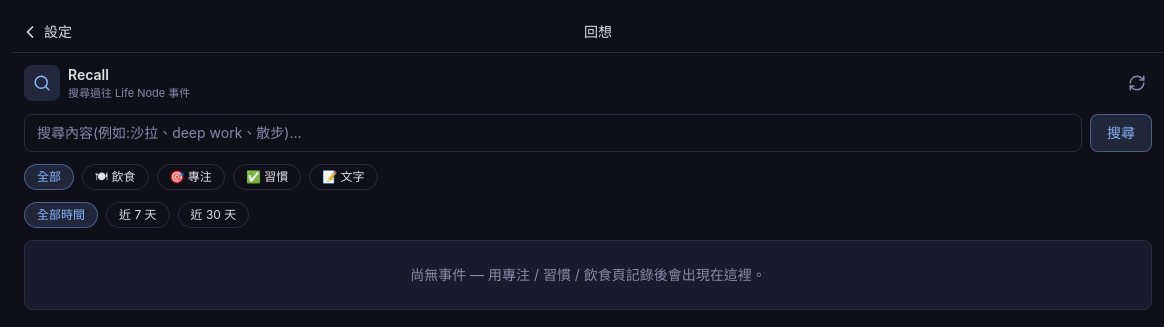
Scenario: <MobileRecall /> › surfaces a search error without crashing
The image size is (1164, 327).
Step 1. Click the button "搜尋" → (1121, 132), box [1090,114,1152,152]
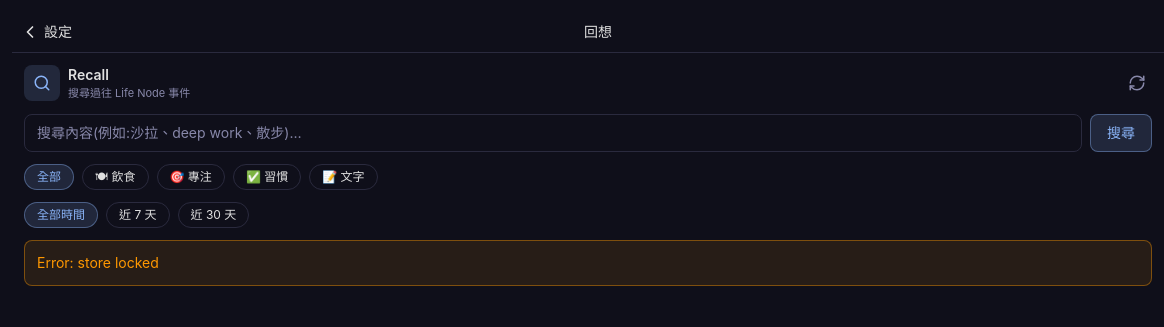
Expected: the text "Error: store locked" is shown, [24,240,1152,286]
